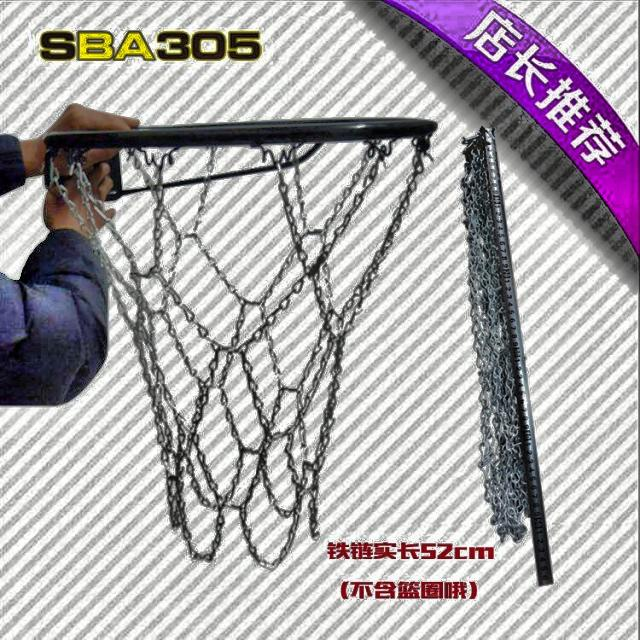rim: (34, 120, 437, 563)
